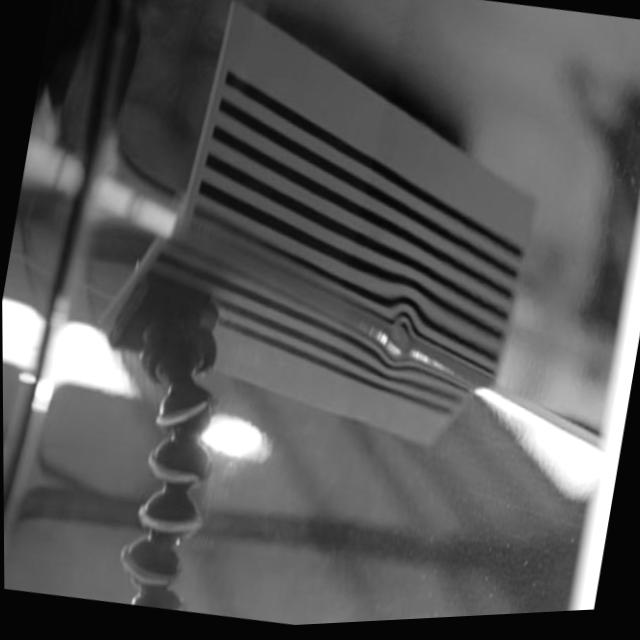PDR-Dent: (356, 291, 430, 381)
